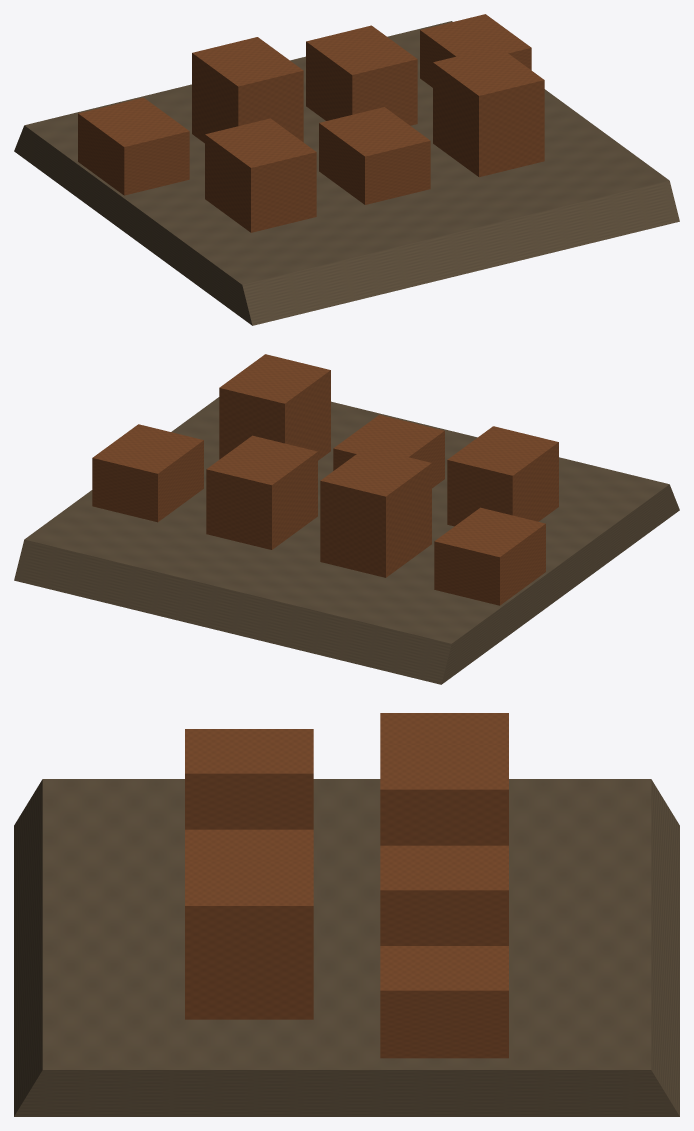
The model's file is Berber_Wall_Age2_destroyed_6m.fbx.
3 renders of one model, top to bottom at view 1: azimuth 30°, elevation 25°; view 2: azimuth 150°, elevation 25°; view 3: azimuth 270°, elevation 25°, orthographic. The views are drawn at different scales.
Parts seen in each view (by area): view 1: destroyed_foot, fallen_earth_blocks.005, fallen_earth_blocks.001, fallen_earth_blocks.002, fallen_earth_blocks.004, fallen_earth_blocks, fallen_earth_blocks.003, fallen_earth_blocks.006; view 2: destroyed_foot, fallen_earth_blocks.002, fallen_earth_blocks.004, fallen_earth_blocks.005, fallen_earth_blocks.001, fallen_earth_blocks, fallen_earth_blocks.006, fallen_earth_blocks.003; view 3: destroyed_foot, fallen_earth_blocks.005, fallen_earth_blocks.006, fallen_earth_blocks.001, fallen_earth_blocks.002, fallen_earth_blocks.004, fallen_earth_blocks.003, fallen_earth_blocks.
Part boxes in pixels (<box>): destroyed_foot: <box>14,21,679,325</box>; fallen_earth_blocks.005: <box>433,46,544,177</box>; fallen_earth_blocks.001: <box>205,118,316,232</box>; fallen_earth_blocks.002: <box>192,37,303,143</box>; fallen_earth_blocks.004: <box>306,25,417,125</box>; fallen_earth_blocks: <box>78,97,189,195</box>; fallen_earth_blocks.003: <box>319,107,430,204</box>; fallen_earth_blocks.006: <box>420,14,531,87</box>; destroyed_foot: <box>14,397,679,684</box>; fallen_earth_blocks.002: <box>320,447,431,577</box>; fallen_earth_blocks.004: <box>206,435,317,549</box>; fallen_earth_blocks.005: <box>219,354,330,460</box>; fallen_earth_blocks.001: <box>447,426,558,526</box>; fallen_earth_blocks: <box>434,507,545,605</box>; fallen_earth_blocks.006: <box>92,424,203,522</box>; fallen_earth_blocks.003: <box>333,415,444,488</box>; destroyed_foot: <box>14,779,679,1116</box>; fallen_earth_blocks.005: <box>185,861,313,1019</box>; fallen_earth_blocks.006: <box>380,946,508,1058</box>; fallen_earth_blocks.001: <box>185,729,313,829</box>; fallen_earth_blocks.002: <box>380,745,508,845</box>; fallen_earth_blocks.004: <box>380,845,508,945</box>; fallen_earth_blocks.003: <box>185,829,313,861</box>; fallen_earth_blocks: <box>380,713,508,744</box>.
Bounding box in the file's own units: 600 × 154 × 580.
Materials: 2 (2 with a texture image).
